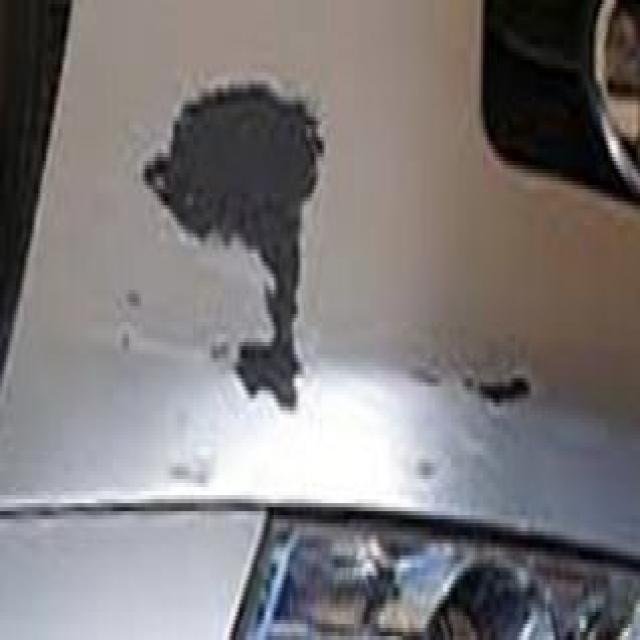scratch: (136, 50, 335, 441), (452, 352, 544, 429)
